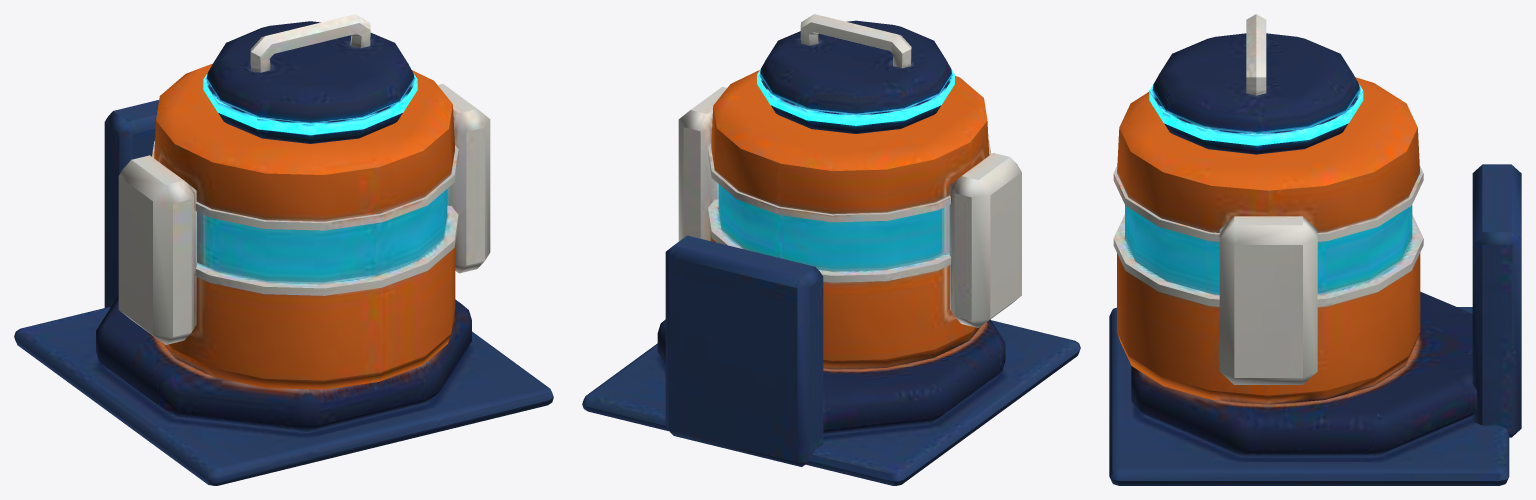
The model's file is R4X_Battery_LOD1.glb.
3 renders of one model, left to right at view 1: azimuth 30°, elevation 25°; view 2: azimuth 150°, elevation 25°; view 3: azimuth 270°, elevation 25°, orthographic. The views are drawn at different scales.
Parts seen in each view (by area): view 1: R4X_Battery_LOD1; view 2: R4X_Battery_LOD1; view 3: R4X_Battery_LOD1.
Boxes of the visible parts, x1,y1,x2,y2 form: R4X_Battery_LOD1: (14,14,553,485); R4X_Battery_LOD1: (582,14,1080,485); R4X_Battery_LOD1: (1109,14,1521,485).
Size of the model in its own units: 0.49 by 0.4995 by 0.505.
4 materials, 4 textured.
